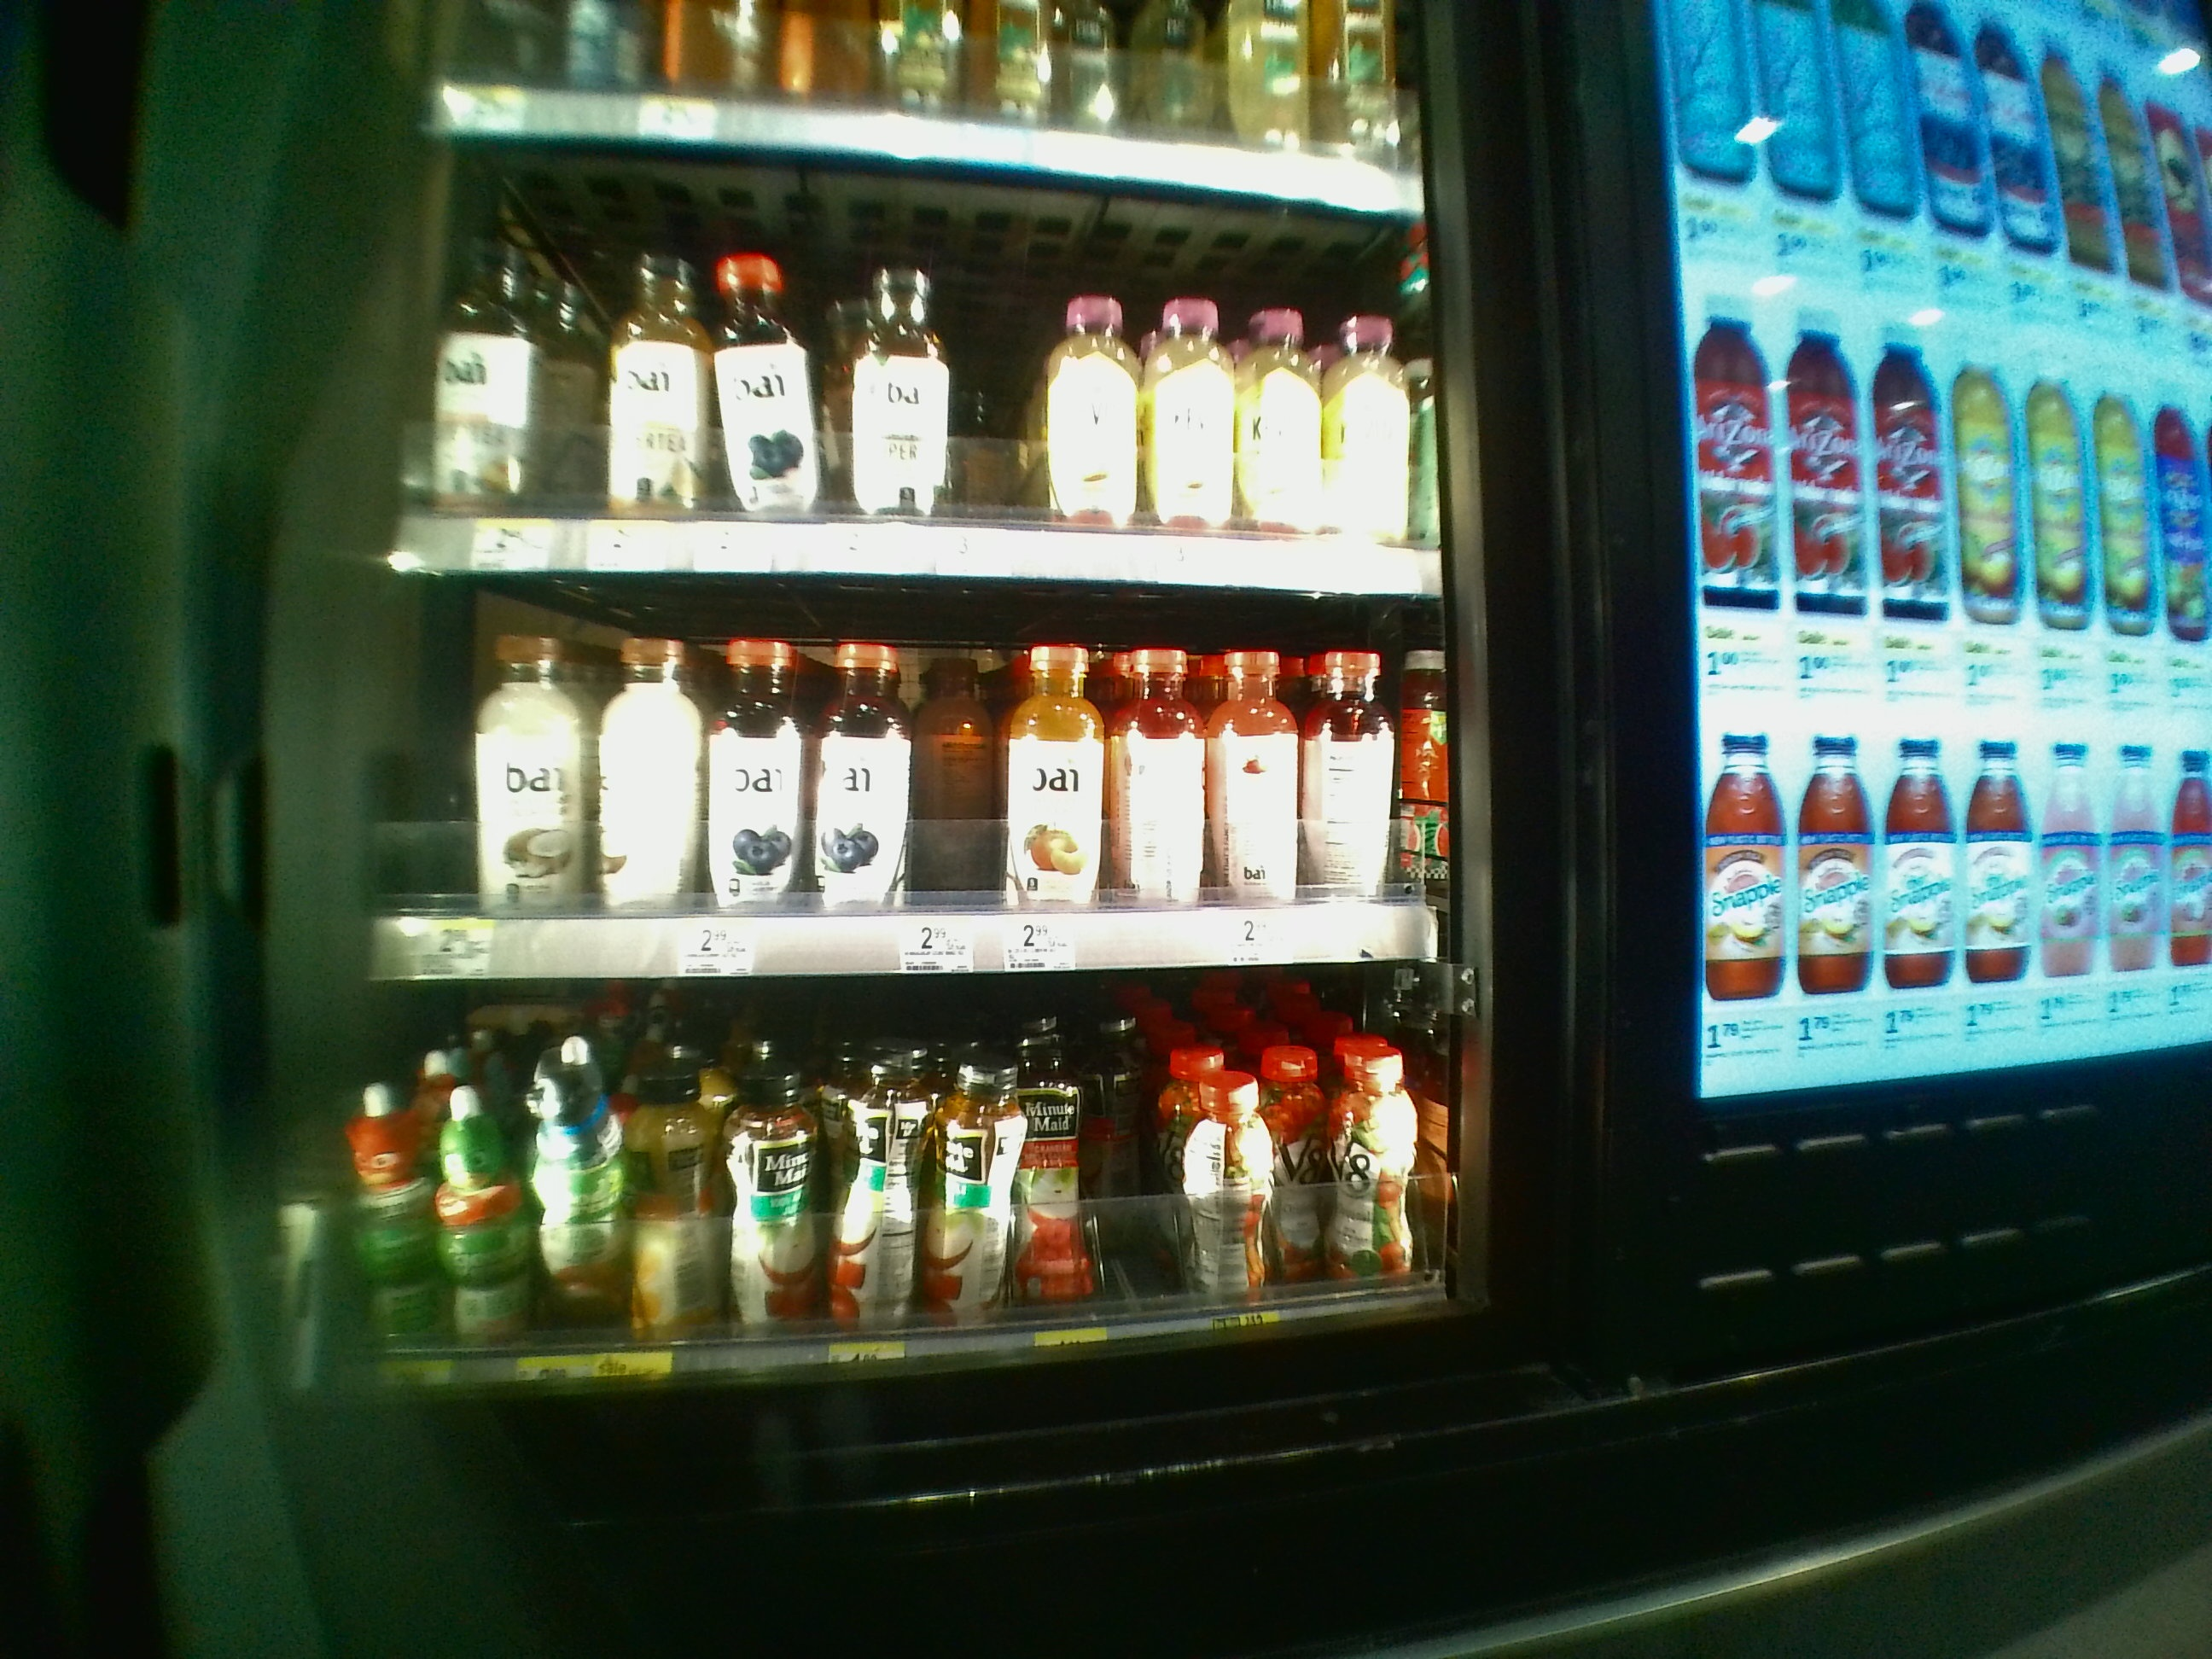shelf: (394, 141, 1439, 579), (350, 993, 1458, 1389), (371, 586, 1451, 978)
